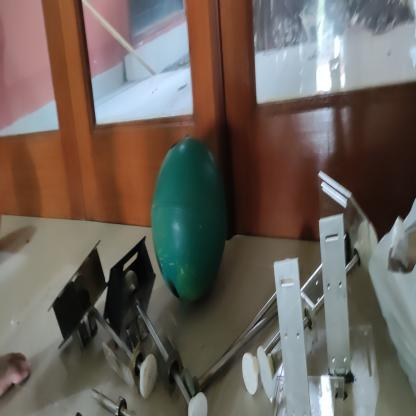green_buoy: (150, 134, 228, 306)
